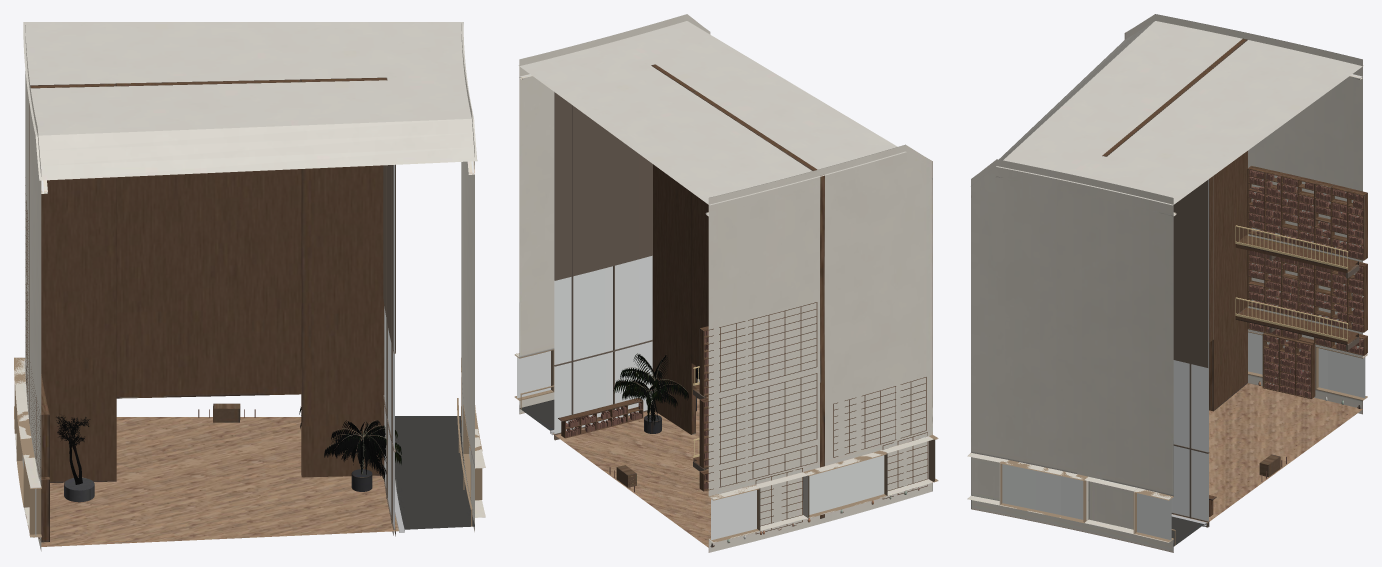
3 renders of one model, left to right at view 1: azimuth 30°, elevation 25°; view 2: azimuth 150°, elevation 25°; view 3: azimuth 270°, elevation 25°, orthographic. The views are drawn at different scales.
Visible parts, largest first — view 1: c2940, c2940 leaves; view 2: c2940, c2940 leaves; view 3: c2940.
Boxes of the visible parts, <box> form: c2940: <box>14,22,485,551</box>; c2940 leaves: <box>56,407,401,484</box>; c2940: <box>514,14,938,552</box>; c2940 leaves: <box>613,353,699,424</box>; c2940: <box>967,14,1367,552</box>.
Size of the model in its own units: 24.66 by 20.7 by 21.19.
13 materials, 2 textured.
